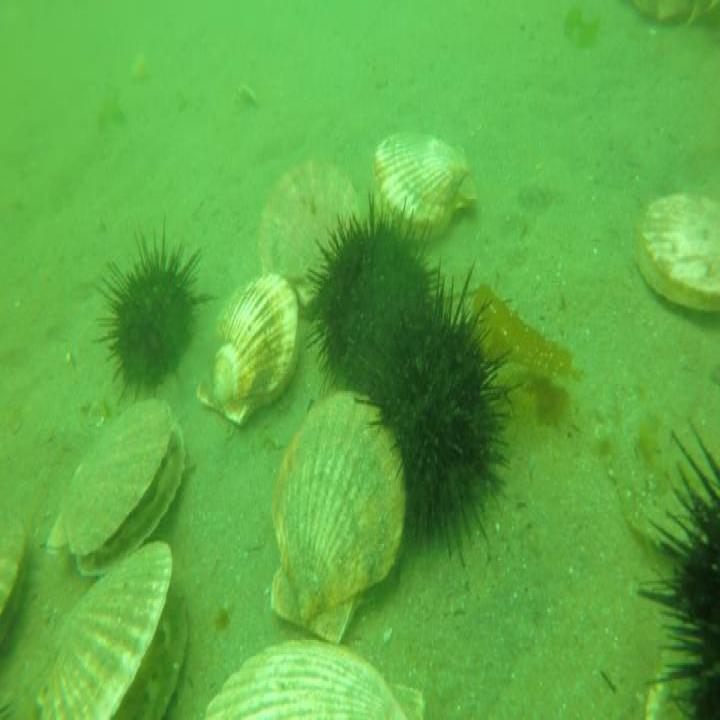echinus: (371, 278, 517, 540), (303, 197, 438, 418), (630, 416, 720, 720), (97, 215, 205, 405)
scallop: (268, 398, 406, 649), (30, 540, 188, 720), (48, 395, 185, 574), (198, 638, 425, 720), (258, 148, 365, 320), (193, 274, 298, 428), (368, 124, 480, 249), (637, 185, 720, 318), (0, 494, 26, 667)
